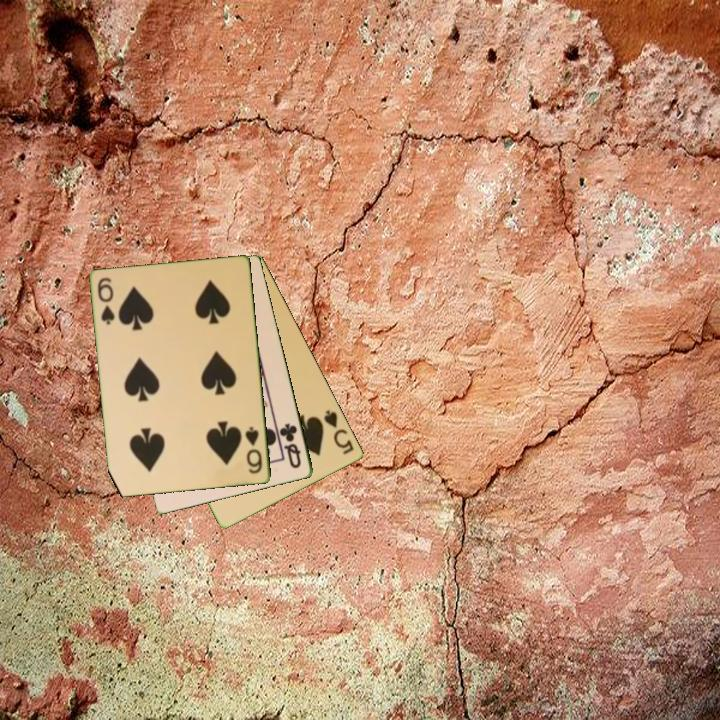5s: (321, 406, 357, 458)
6s: (94, 274, 118, 328), (242, 423, 265, 477)
Qc: (276, 420, 304, 471)
